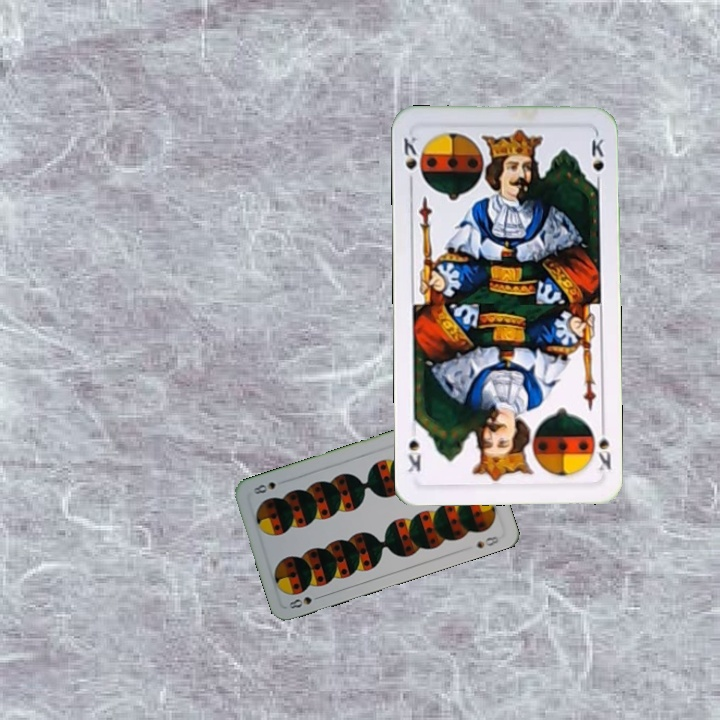S8: (285, 591, 325, 612)
SK: (400, 132, 425, 189), (594, 419, 613, 474)
